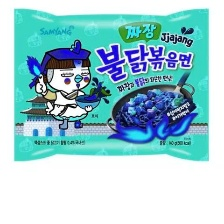snack: (5, 0, 216, 168)
